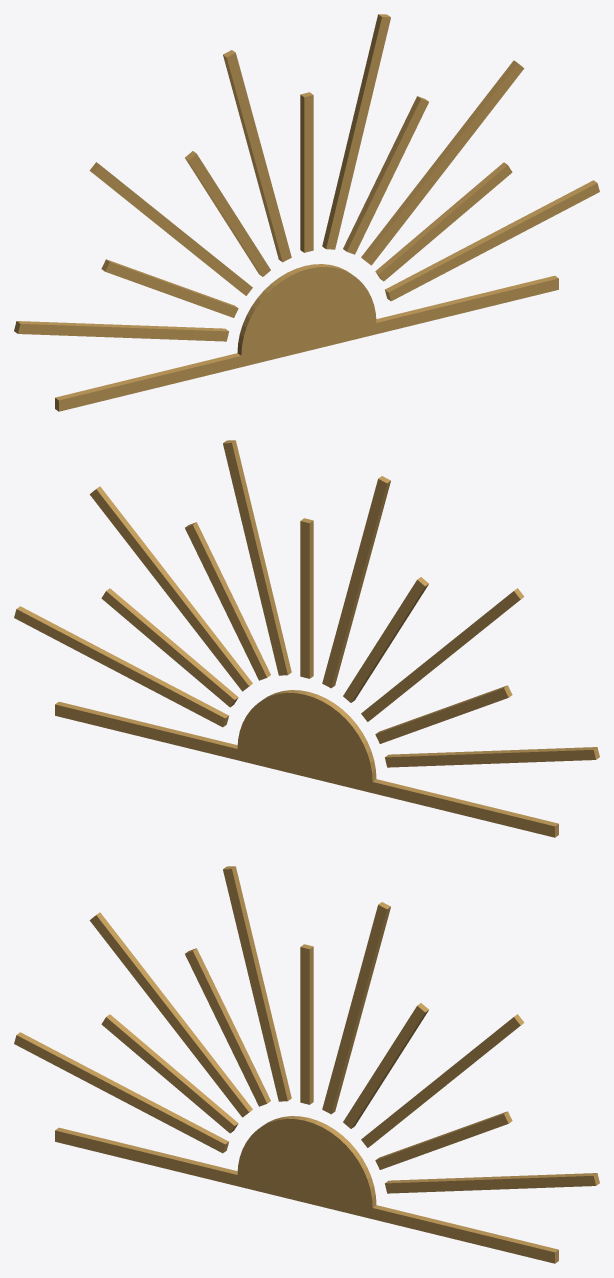
The model's file is C_Sunburst.fbx.
3 renders of one model, top to bottom at view 1: azimuth 30°, elevation 25°; view 2: azimuth 150°, elevation 25°; view 3: azimuth 330°, elevation 25°, orthographic.
Visible parts, largest first — view 1: C_Sunburst; view 2: C_Sunburst; view 3: C_Sunburst.
Part boxes in pixels (left/top/right/bottom): C_Sunburst: left=14, top=14, right=599, bottom=411; C_Sunburst: left=14, top=440, right=599, bottom=837; C_Sunburst: left=14, top=866, right=599, bottom=1263.
Size of the model in its own units: 4.31 by 2.23 by 0.05.
